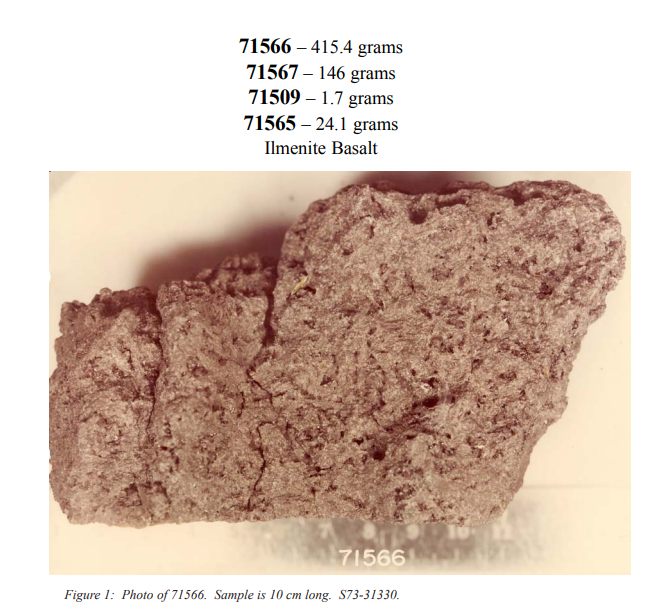Basalt: (57, 185, 637, 537), (160, 324, 531, 483)
